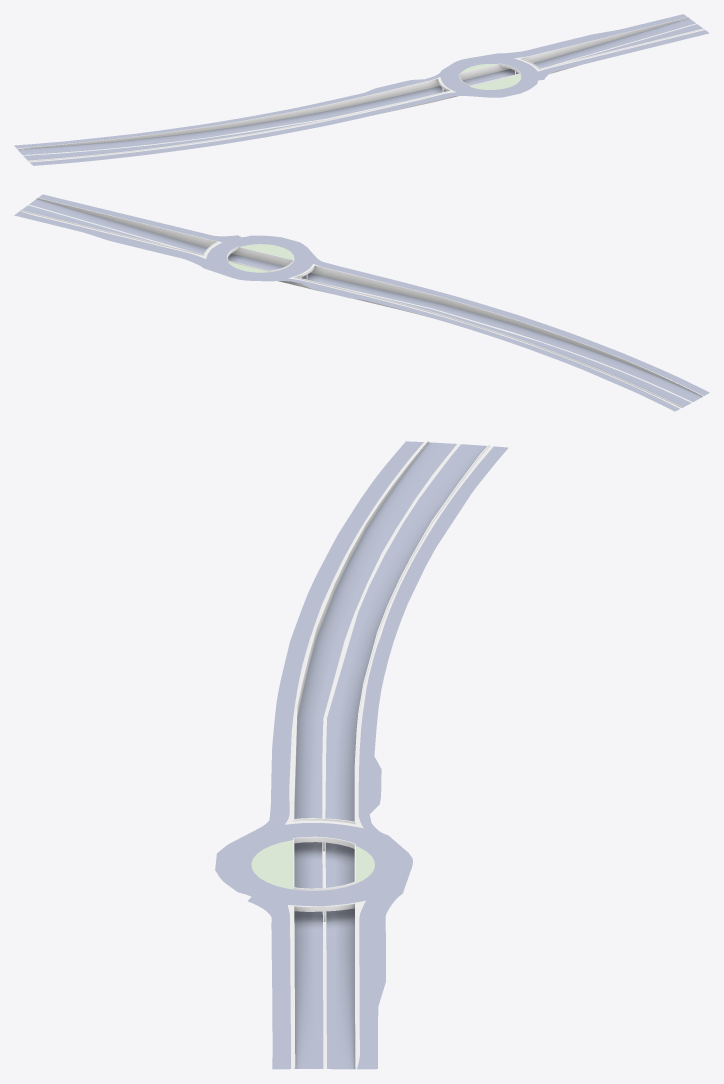
The model's file is Al-Mustafina.glb.
3 views of the same model, one above another, from view 1: azimuth 30°, elevation 25°; view 2: azimuth 150°, elevation 25°; view 3: azimuth 270°, elevation 25° (orthographic). The views are drawn at different scales.
Visible parts, largest first — view 1: group_3, group_15, group_6.001, group_4.001; view 2: group_3, group_15, group_6.001, group_4.001; view 3: group_3, group_6.001, group_15, group_4.001.
Boxes of the visible parts, x1=… form: group_3: x1=14, y1=14, x2=709, y2=165; group_15: x1=17, y1=17, x2=704, y2=161; group_6.001: x1=22, y1=23, x2=704, y2=162; group_4.001: x1=461, y1=64, x2=521, y2=89; group_3: x1=14, y1=194, x2=709, y2=411; group_15: x1=20, y1=197, x2=702, y2=407; group_6.001: x1=20, y1=204, x2=703, y2=408; group_4.001: x1=228, y1=244, x2=294, y2=272; group_3: x1=215, y1=441, x2=508, y2=1069; group_6.001: x1=285, y1=442, x2=493, y2=1069; group_15: x1=293, y1=440, x2=489, y2=1069; group_4.001: x1=251, y1=840, x2=374, y2=889.
Bounding box in the file's own units: 688 × 8 × 136.
5 materials, 2 textured.
